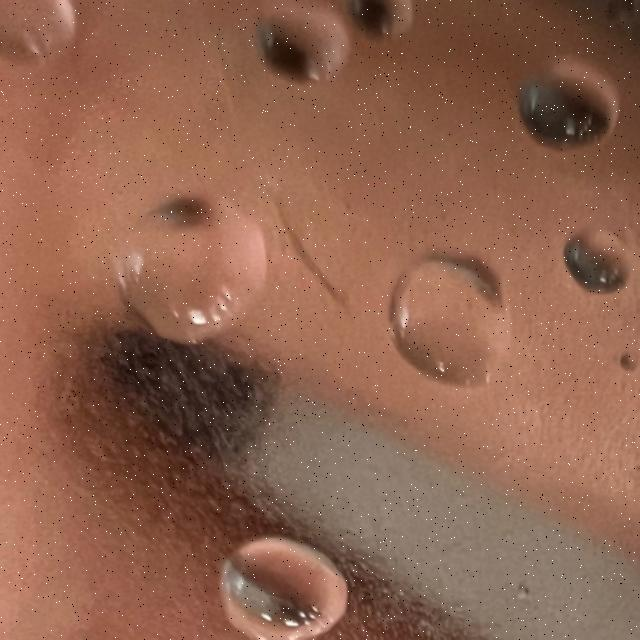raindrop: (101, 190, 277, 356), (387, 242, 519, 398), (219, 535, 354, 640), (510, 54, 628, 161), (247, 2, 339, 86), (8, 2, 90, 78), (556, 223, 640, 292), (348, 12, 432, 40)
